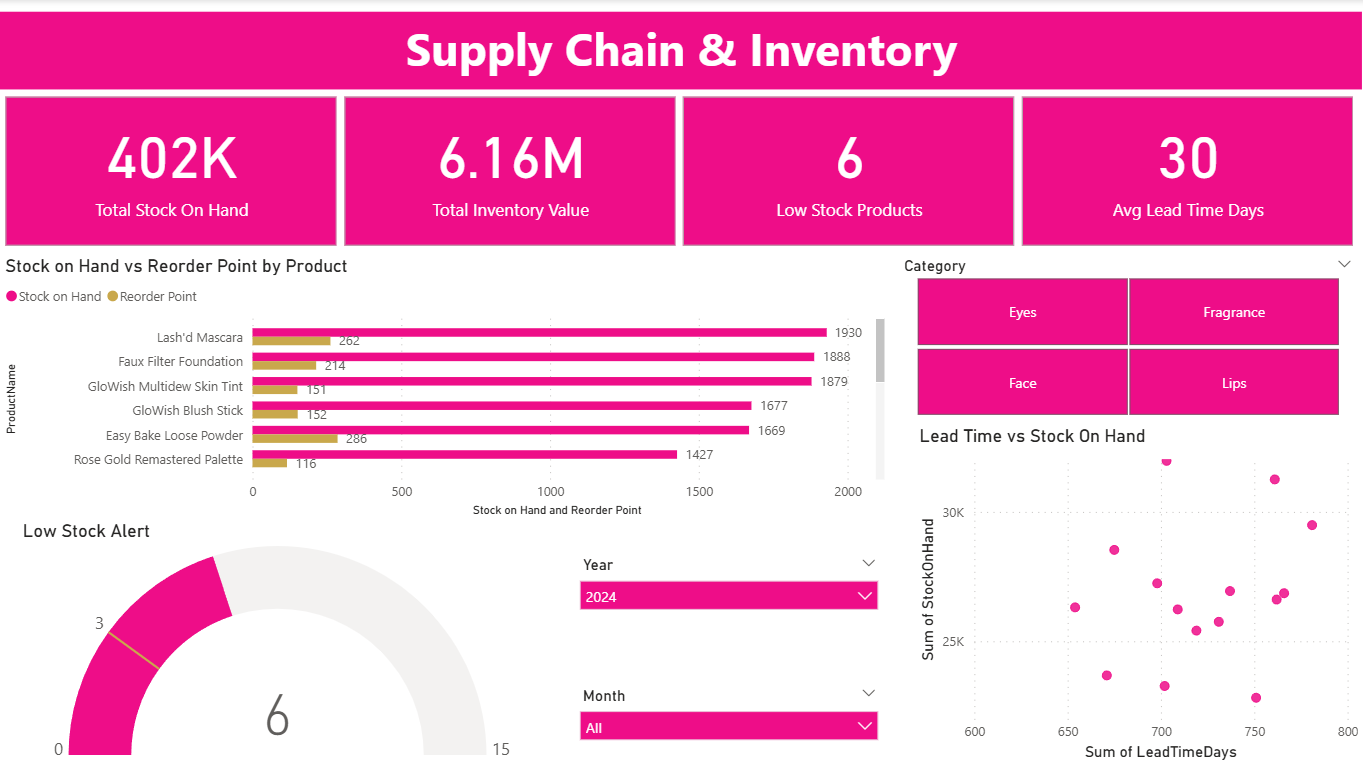

This screenshot's page, from the dashboard's own definition file:
{"tool":"powerbi","page":{"name":"Supply Chain & Inventory","canvas":[1280,720],"ordinal":4},"visuals":[{"type":"textbox","box":[0,12.5,1279.2,72.9],"z":0},{"type":"cardVisual","fields":{"Data":["00_Measures.Total Stock On Hand","00_Measures.Total Inventory Value","00_Measures.Low Stock Products","00_Measures.Avg Lead Time Days"]},"box":[0,86.7,1278.3,150],"z":1000},{"type":"clusteredBarChart","title":"Stock on Hand vs Reorder Point by Product","fields":{"Category":["DimProduct.ProductName"],"Y":["Sum(FactInventory.StockOnHand)","Sum(FactInventory.ReorderPoint)"]},"box":[0,240,835,250],"z":2000},{"type":"gauge","fields":{"Y":["00_Measures.Low Stock Products"]},"box":[16.7,490,496.7,230],"z":3000},{"type":"scatterChart","title":"Lead Time vs Stock On Hand","fields":{"X":["Sum(FactInventory.LeadTimeDays)"],"Y":["Sum(FactInventory.StockOnHand)"],"Category":["DimProduct.ProductName"]},"box":[858.3,400,421.7,320],"z":4000},{"type":"slicer","fields":{"Values":["DimProduct.Category"]},"box":[835,236.7,445,160],"z":5000},{"type":"slicer","fields":{"Values":["DimDate.Year"]},"box":[535,518.3,300,83.3],"z":6000},{"type":"slicer","fields":{"Values":["DimDate.MonthName"]},"box":[535,640,300,58.3],"z":7000}]}

Visuals, with their boxes in screenshot pixels (x1, y1, x2, y2), scaled from the page's 1280x720 canvas onto the 1363x762 screenshot:
textbox: Rect(0, 13, 1362, 90)
cardVisual - 00_Measures.Total Stock On Hand x 00_Measures.Total Inventory Value: Rect(0, 92, 1361, 251)
"Stock on Hand vs Reorder Point by Product" clusteredBarChart: Rect(0, 254, 889, 519)
gauge - 00_Measures.Low Stock Products: Rect(18, 519, 547, 761)
"Lead Time vs Stock On Hand" scatterChart: Rect(914, 423, 1362, 761)
slicer - DimProduct.Category: Rect(889, 251, 1362, 420)
slicer - DimDate.Year: Rect(570, 549, 889, 637)
slicer - DimDate.MonthName: Rect(570, 677, 889, 739)
